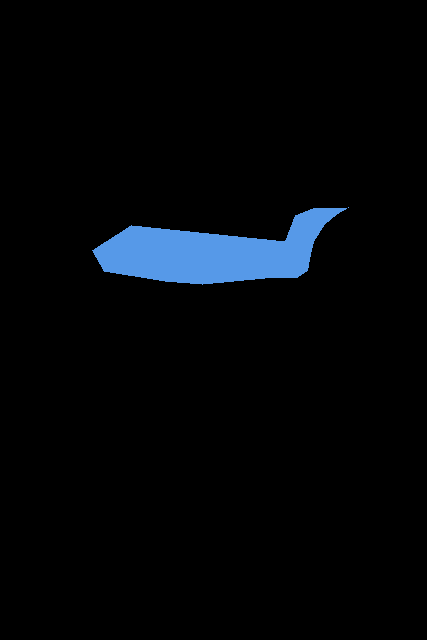Airplane: (92, 207, 349, 285)
